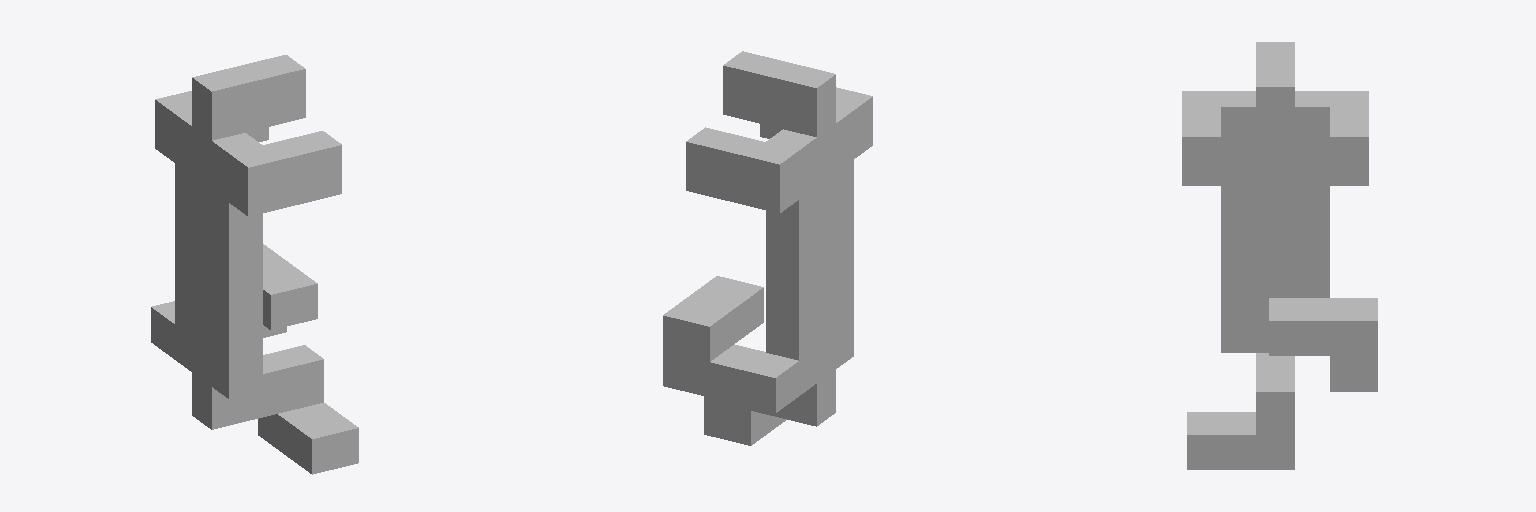
3 renders of one model, left to right at view 1: azimuth 30°, elevation 25°; view 2: azimuth 150°, elevation 25°; view 3: azimuth 270°, elevation 25°, orthographic.
Parts seen in each view (by area): view 1: mesh_1_Thick-4.004; view 2: mesh_1_Thick-4.004; view 3: mesh_1_Thick-4.004.
Part boxes in pixels (x1,y1,x2,y2): mesh_1_Thick-4.004: (151, 55, 358, 474); mesh_1_Thick-4.004: (663, 51, 872, 445); mesh_1_Thick-4.004: (1182, 42, 1377, 469).
Bounding box in the file's own units: 0.06 × 0.19 × 0.09.